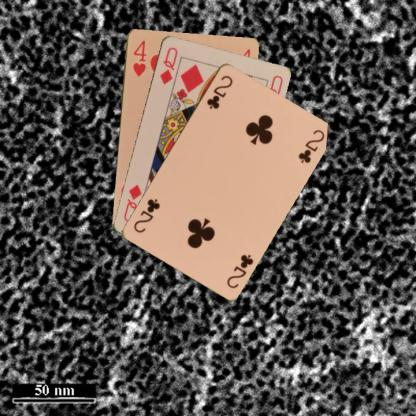2c: (203, 72, 234, 110), (223, 251, 254, 289)
4h: (130, 38, 147, 78)
Qd: (156, 44, 178, 85)
